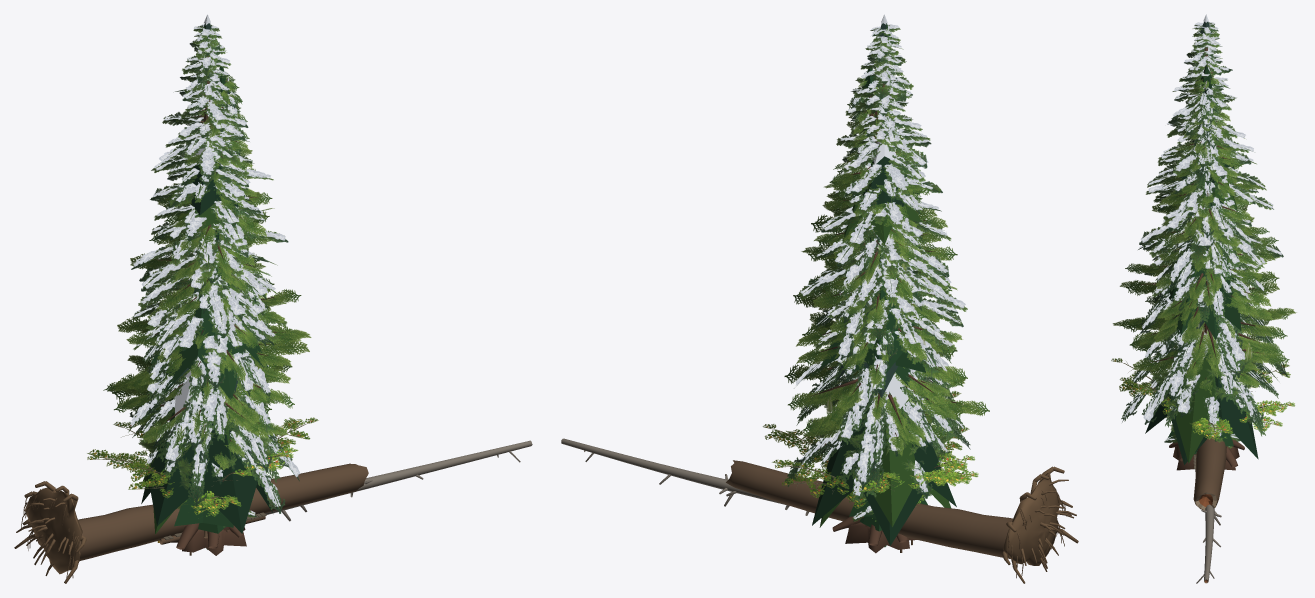
File: forest.glb
3 renders of one model, left to right at view 1: azimuth 30°, elevation 25°; view 2: azimuth 150°, elevation 25°; view 3: azimuth 270°, elevation 25°, orthographic. The views are drawn at different scales.
Parts seen in each view (by area): view 1: fir_snow, cedar, fir, hemlock_snow, log_nurse, hemlock, hemlock_lod, vine_maple, cedar_lod, log_leaning, shore_pine, vine_maple_lod (+2 smaller); view 2: cedar, fir_snow, fir, log_nurse, hemlock_snow, hemlock, cedar_lod, hemlock_lod, vine_maple, log_leaning, vine_maple_lod, fir_snow_lod (+2 smaller); view 3: cedar, hemlock_snow, fir_snow, hemlock, fir, cedar_lod, hemlock_lod, log_nurse, vine_maple, shore_pine, vine_maple_lod, log_leaning.
Part boxes in pixels (box(x1,y1,x2,y2)): fir_snow: box(131, 24, 286, 362); cedar: box(103, 76, 311, 555); fir: box(131, 25, 288, 538); hemlock_snow: box(129, 91, 300, 513); log_nurse: box(14, 463, 368, 583); hemlock: box(128, 91, 299, 513); hemlock_lod: box(141, 80, 272, 533); vine_maple: box(87, 417, 318, 516); cedar_lod: box(141, 67, 267, 534); log_leaning: box(265, 440, 532, 521); shore_pine: box(138, 402, 273, 509); vine_maple_lod: box(113, 419, 298, 509); cedar: box(784, 77, 989, 553); fir_snow: box(799, 24, 967, 546); fir: box(798, 25, 967, 546); log_nurse: box(726, 460, 1078, 583); hemlock_snow: box(786, 95, 969, 500); hemlock: box(785, 95, 970, 502); cedar_lod: box(819, 67, 950, 527); hemlock_lod: box(812, 101, 956, 545); vine_maple: box(763, 424, 978, 504); log_leaning: box(561, 438, 808, 515); vine_maple_lod: box(773, 391, 971, 508); fir_snow_lod: box(862, 14, 920, 206); cedar: box(1112, 74, 1296, 470); hemlock_snow: box(1122, 92, 1286, 441); fir_snow: box(1139, 22, 1282, 310); hemlock: box(1121, 93, 1286, 441); fir: box(1138, 22, 1283, 311); cedar_lod: box(1168, 65, 1256, 463); hemlock_lod: box(1145, 88, 1258, 464); log_nurse: box(1170, 347, 1256, 510); vine_maple: box(1119, 368, 1294, 440); shore_pine: box(1152, 345, 1260, 442); vine_maple_lod: box(1111, 358, 1290, 439); log_leaning: box(1196, 504, 1221, 583).
Bounding box in the file's own units: 31.05 × 31.67 × 12.15.
Materials: 38 (13 with a texture image).
